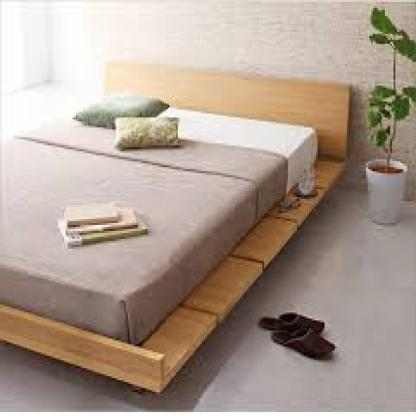Bed: (0, 50, 347, 368)
